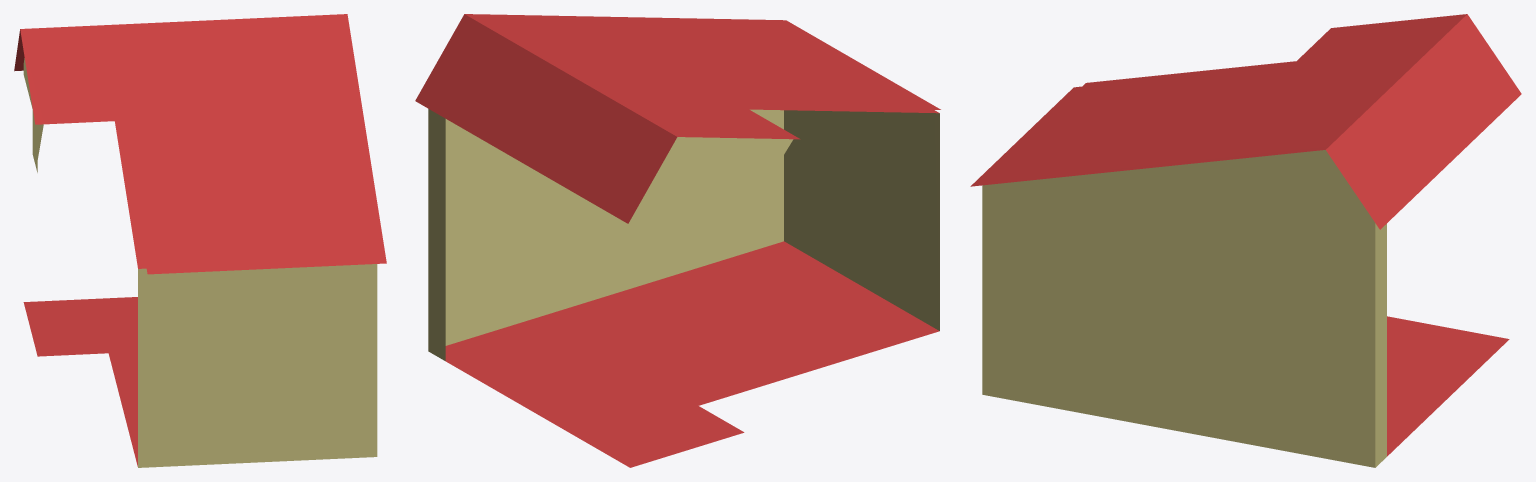
3 views of the same model, side by side, from view 1: azimuth 30°, elevation 25°; view 2: azimuth 150°, elevation 25°; view 3: azimuth 270°, elevation 25° (orthographic). The views are drawn at different scales.
Size of the model in its own units: 11.46 by 15.03 by 9.41.
